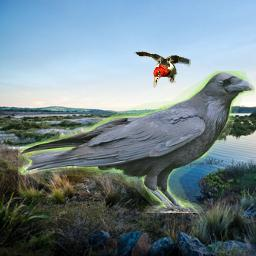Crow: (18, 71, 255, 213)
Woodpecker: (132, 48, 191, 88)
